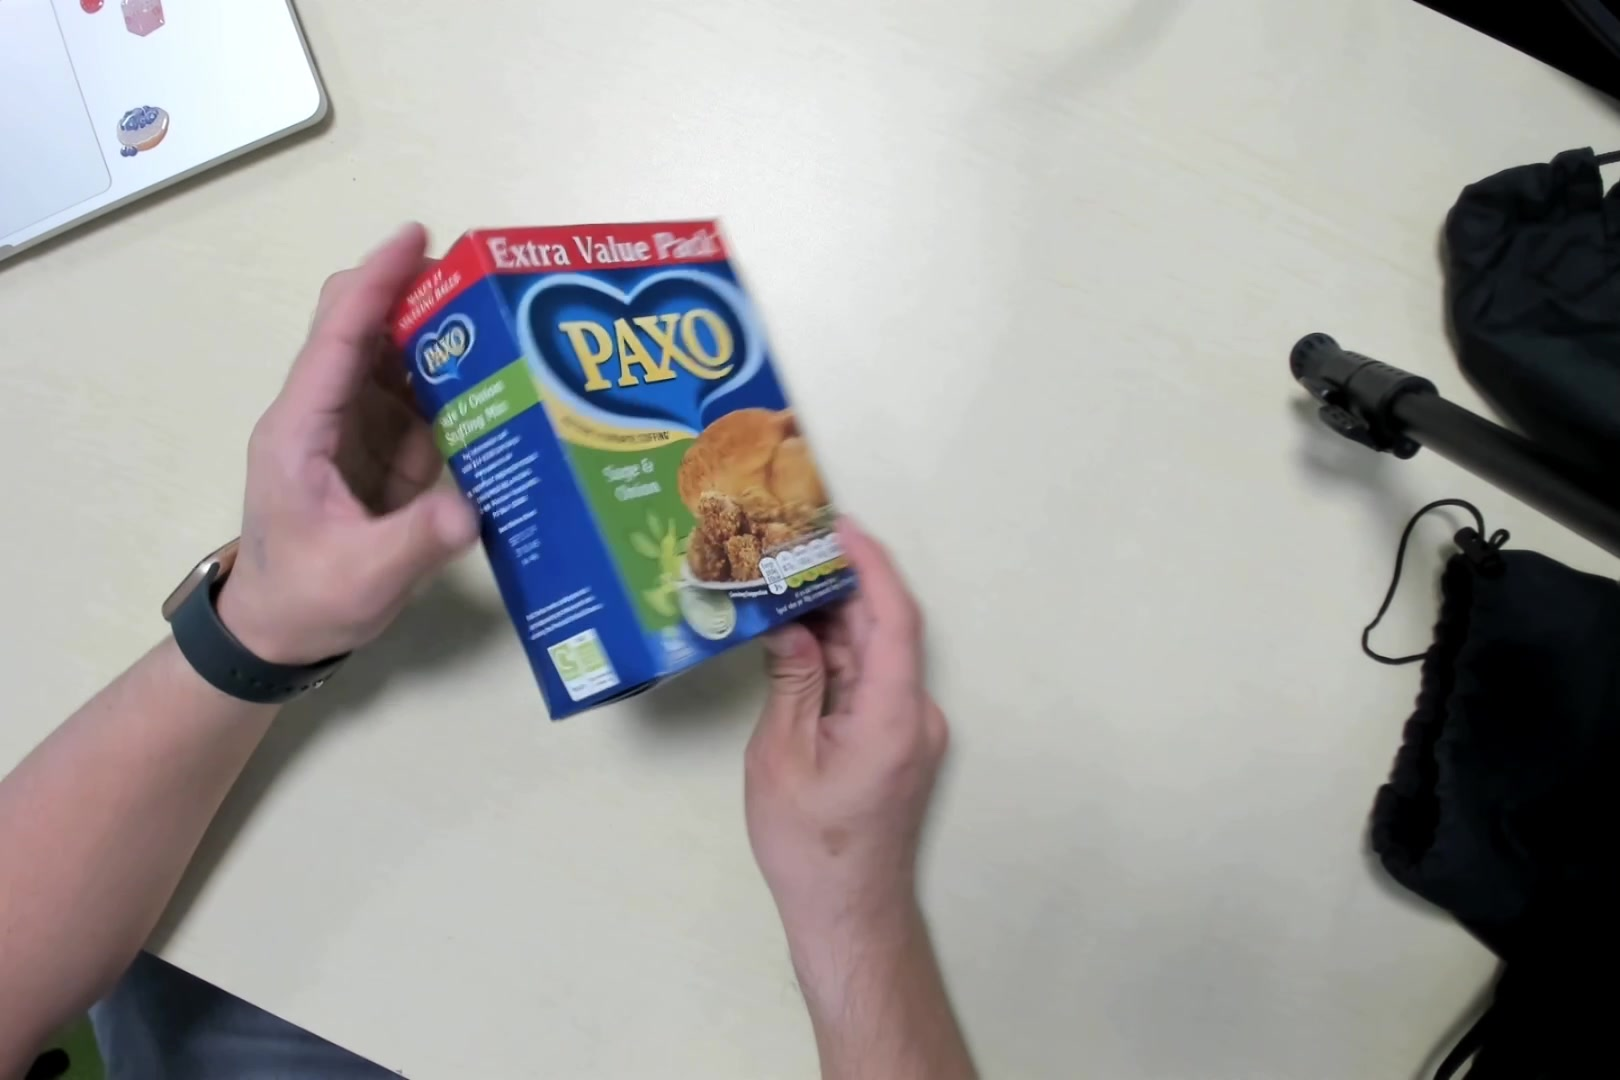OtherBakingNeeds_300-399g_NonHalal_NonHealthy: (393, 216, 862, 716)
